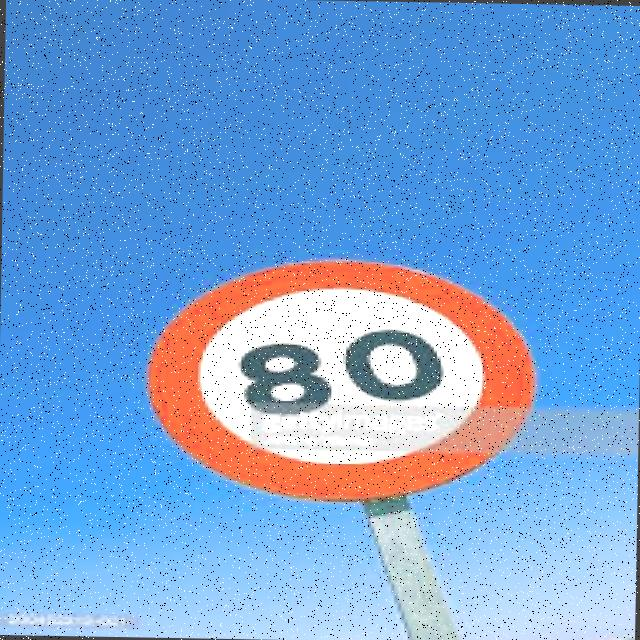Ograniczenie predkosci do 80: (147, 258, 540, 500)
